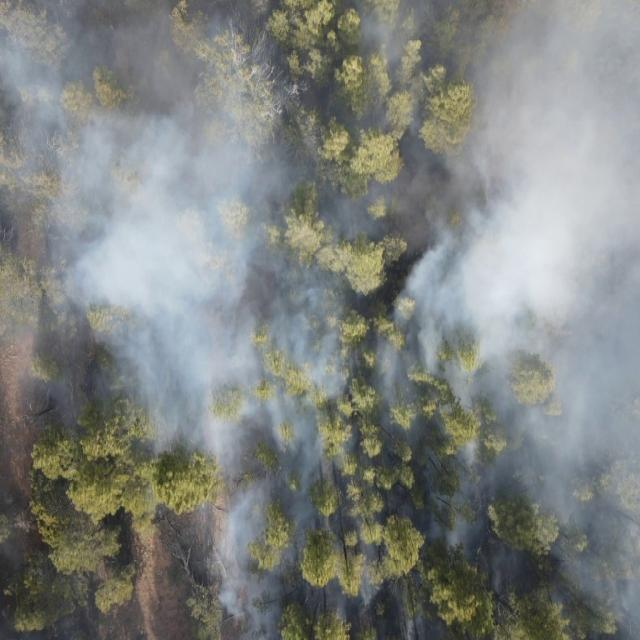smoke: (0, 0, 640, 456), (200, 456, 640, 640)
